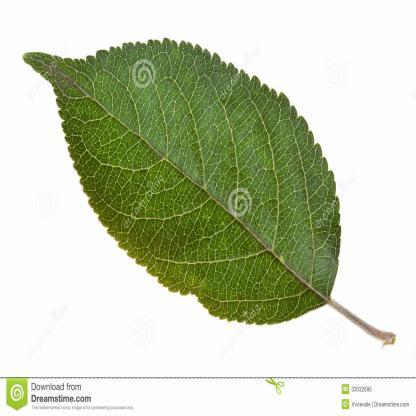Apple leaf: (12, 31, 342, 331)
